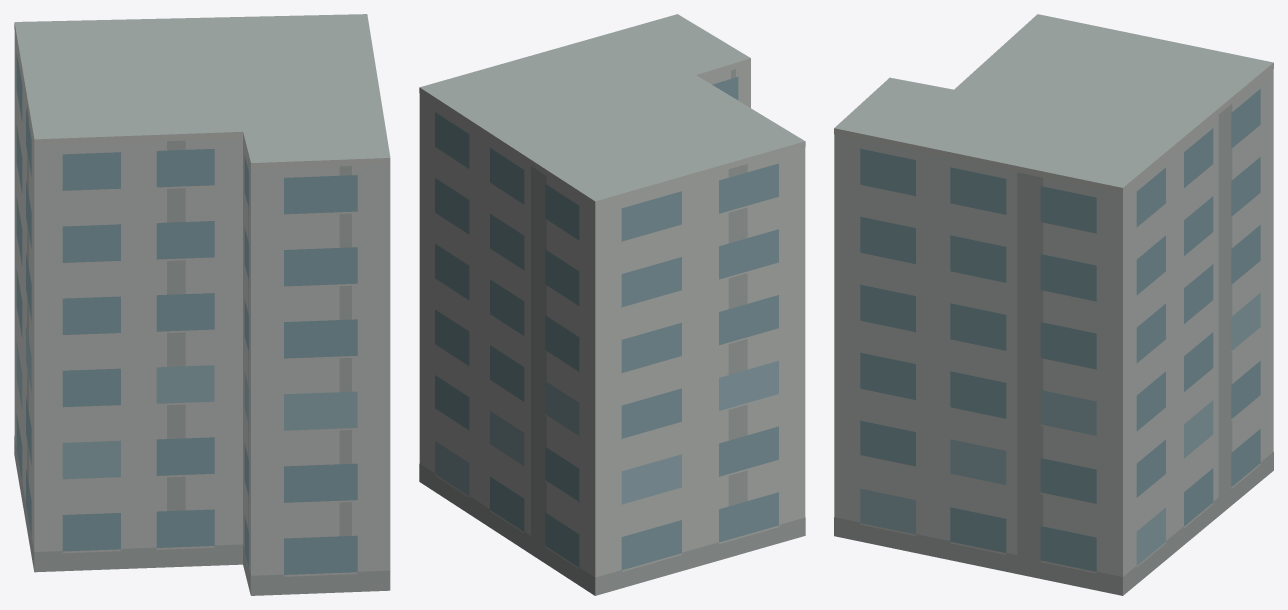
File: survey-upis-32891610.glb
3 views of the same model, side by side, from view 1: azimuth 30°, elevation 25°; view 2: azimuth 150°, elevation 25°; view 3: azimuth 270°, elevation 25° (orthographic). The views are drawn at different scales.
Parts seen in each view (by area): view 1: survey-upis-32891610.tmp; view 2: survey-upis-32891610.tmp; view 3: survey-upis-32891610.tmp.
Part boxes in pixels (left/top/right/bottom): survey-upis-32891610.tmp: left=14, top=14, right=390, bottom=595; survey-upis-32891610.tmp: left=419, top=14, right=805, bottom=595; survey-upis-32891610.tmp: left=834, top=14, right=1273, bottom=595.
Bounding box in the file's own units: 14.46 × 15.8 × 15.44.
